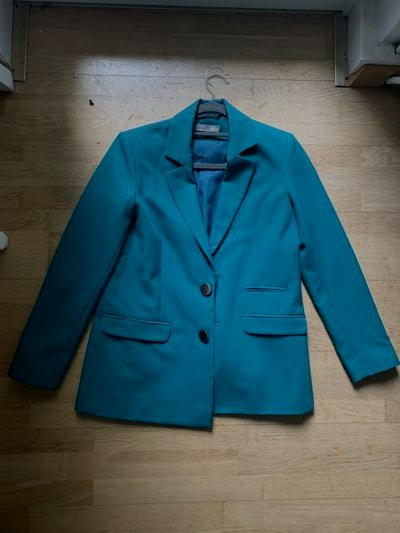Blazer: (6, 93, 390, 452)
